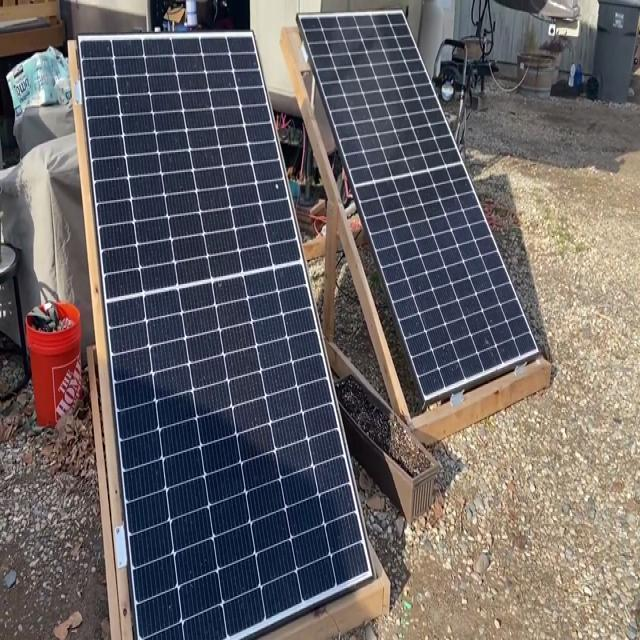Normal Solar Panel: (79, 31, 370, 637), (300, 11, 539, 399)
